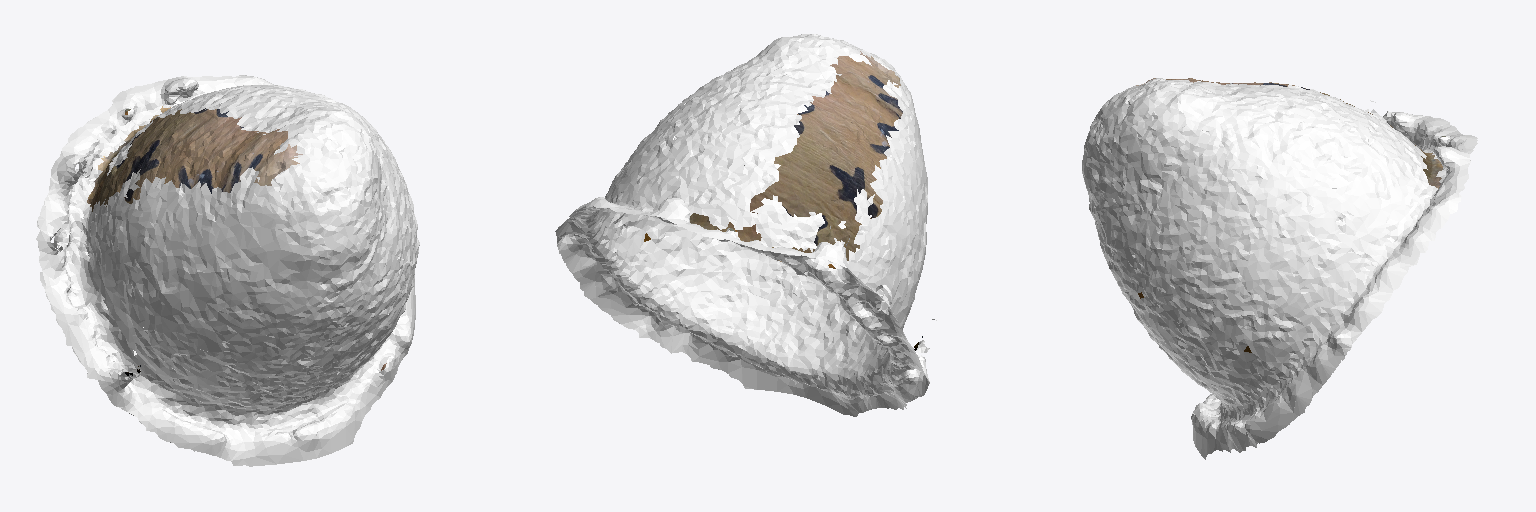
3 renders of one model, left to right at view 1: azimuth 30°, elevation 25°; view 2: azimuth 150°, elevation 25°; view 3: azimuth 270°, elevation 25°, orthographic.
Visible parts, largest first — view 1: defaultobject.003; view 2: defaultobject.003; view 3: defaultobject.003.
Part boxes in pixels (left/top/right/bottom): defaultobject.003: left=36, top=75, right=419, bottom=466; defaultobject.003: left=555, top=34, right=936, bottom=416; defaultobject.003: left=1082, top=78, right=1477, bottom=459.
Bounding box in the file's own units: 6.2 × 5.85 × 6.01.
Materials: 4 (1 with a texture image).